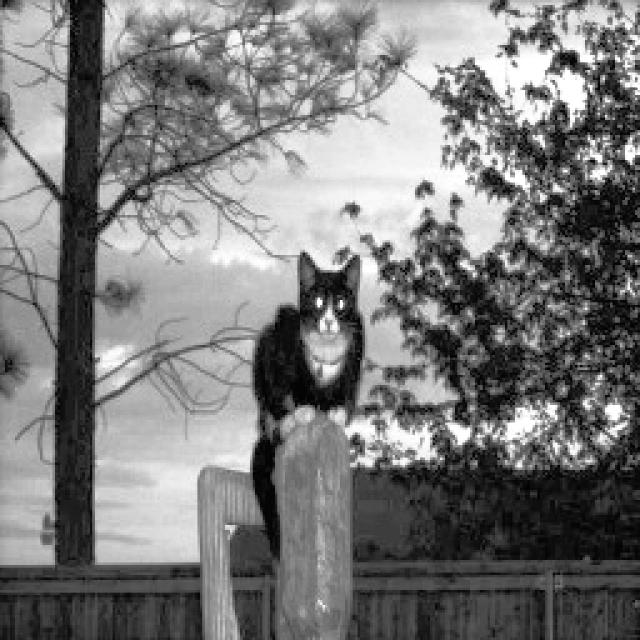cat: (207, 221, 380, 459)
